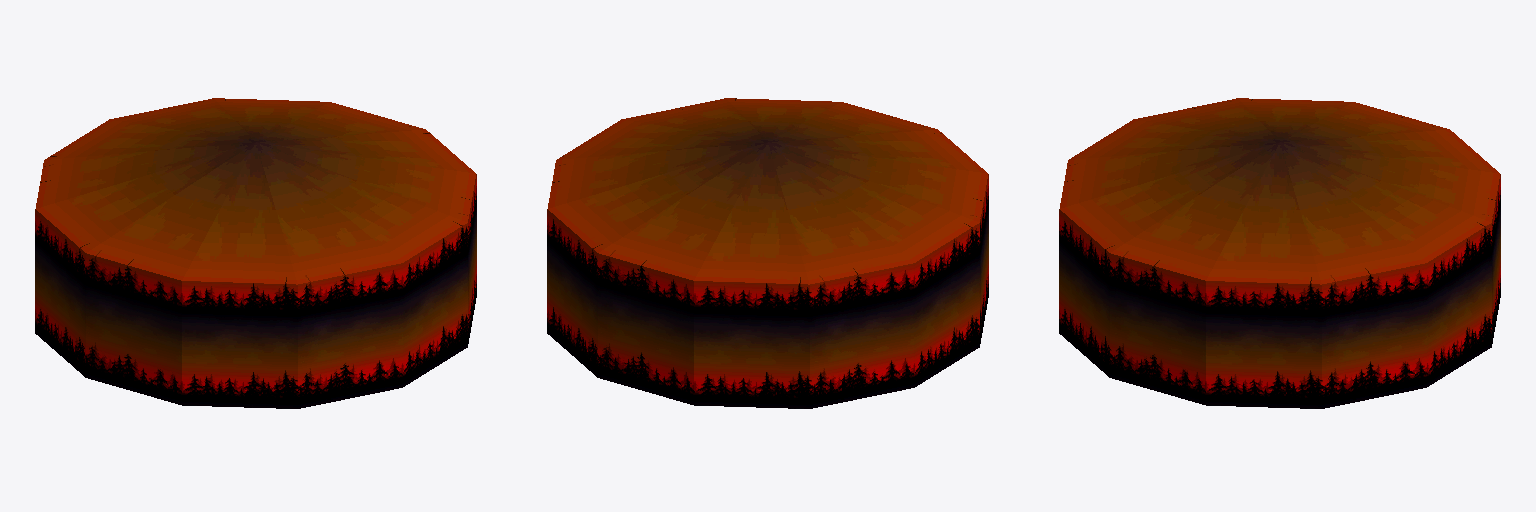
3 renders of one model, left to right at view 1: azimuth 30°, elevation 25°; view 2: azimuth 150°, elevation 25°; view 3: azimuth 270°, elevation 25°, orthographic.
Visible parts, largest first — view 1: polygon0; view 2: polygon0; view 3: polygon0.
Boxes of the visible parts, x1,y1,x2,y2 form: polygon0: [35, 98, 476, 408]; polygon0: [547, 98, 988, 408]; polygon0: [1059, 98, 1500, 408].
Size of the model in its own units: 307 by 174 by 307.
1 materials, 1 textured.